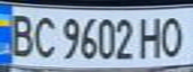0: (97, 15, 118, 61)
2: (115, 15, 139, 61)
6: (78, 15, 100, 61)
9: (57, 14, 81, 61)
B: (3, 10, 39, 58)
C: (30, 12, 60, 60)
H: (136, 13, 166, 60)
O: (157, 12, 187, 59)
